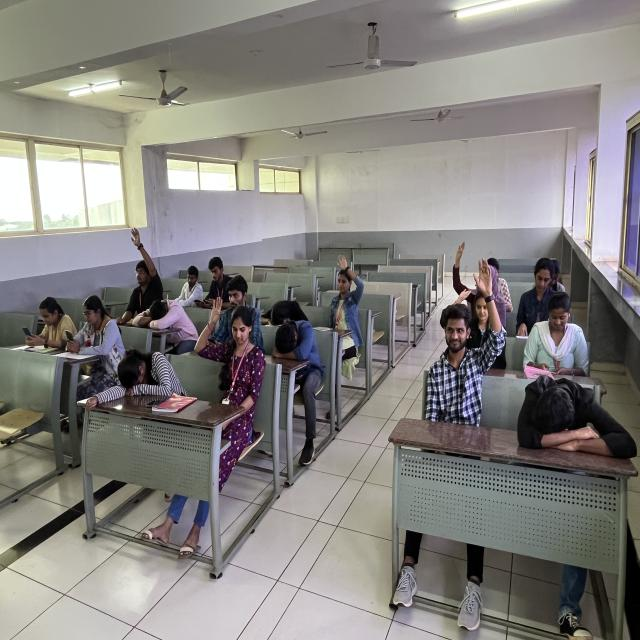Hand Rising: (426, 262, 508, 423), (194, 302, 269, 414), (108, 232, 165, 322), (316, 253, 374, 331), (444, 286, 513, 346), (452, 249, 512, 307)
Reading: (513, 264, 582, 338)
Sleeping: (508, 362, 640, 462), (84, 342, 184, 426), (271, 316, 341, 398), (134, 289, 198, 348), (264, 295, 326, 329)
Using Phone: (529, 301, 601, 386), (66, 290, 129, 387), (13, 284, 71, 361), (192, 259, 241, 312)
Writing: (165, 268, 202, 306)
